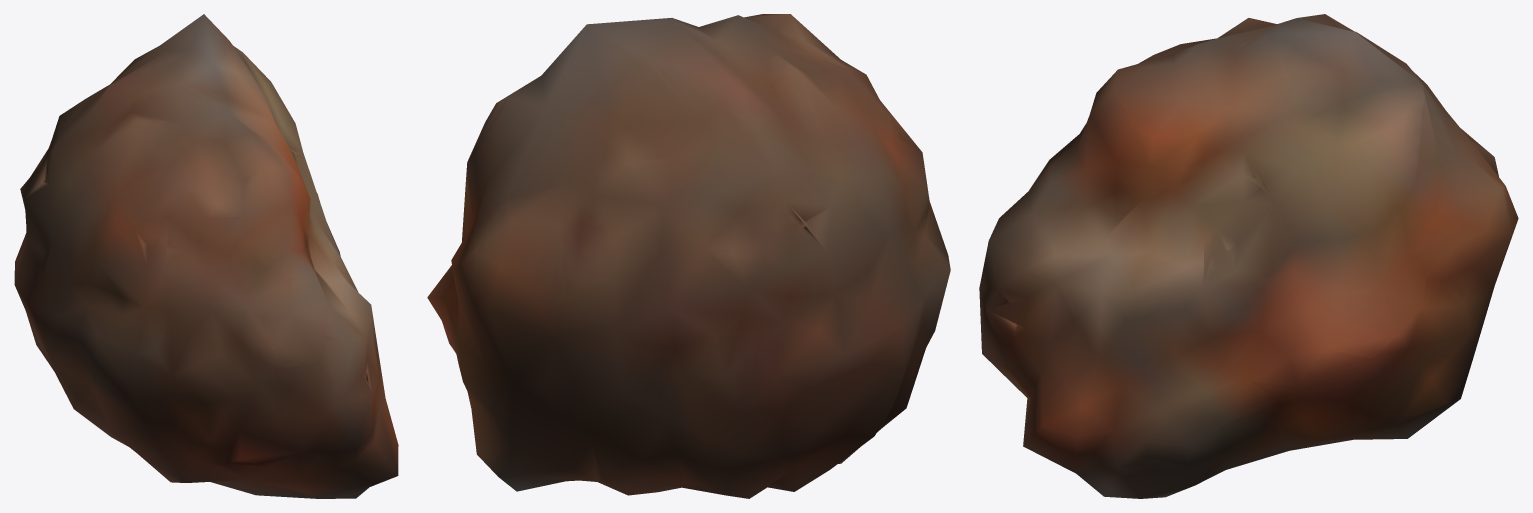
Rendered from copper_ore.glb.
The picture shows the model from 3 angles, left to right: view 1: azimuth 30°, elevation 25°; view 2: azimuth 150°, elevation 25°; view 3: azimuth 270°, elevation 25°; orthographic projection. The views are drawn at different scales.
Parts seen in each view (by area): view 1: model; view 2: model; view 3: model.
Part boxes in pixels (x1=…): model: x1=14, y1=14, x2=398, y2=498; model: x1=427, y1=14, x2=950, y2=498; model: x1=979, y1=14, x2=1518, y2=498.
Bounding box in the file's own units: 0.2944 × 0.3676 × 0.3922.
1 material, 1 textured.
